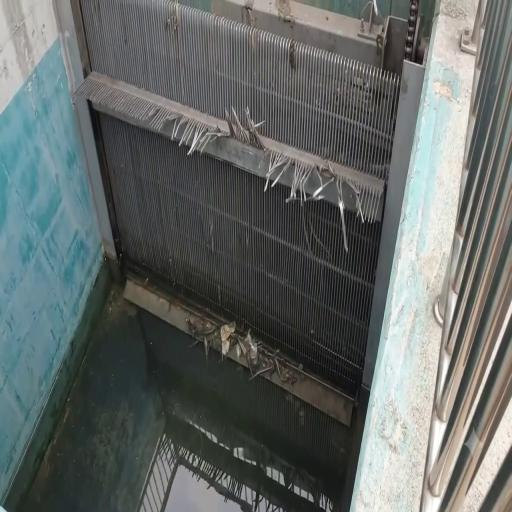rake_broken: (304, 161, 377, 255), (254, 138, 312, 208), (144, 102, 211, 157), (210, 97, 268, 155)
